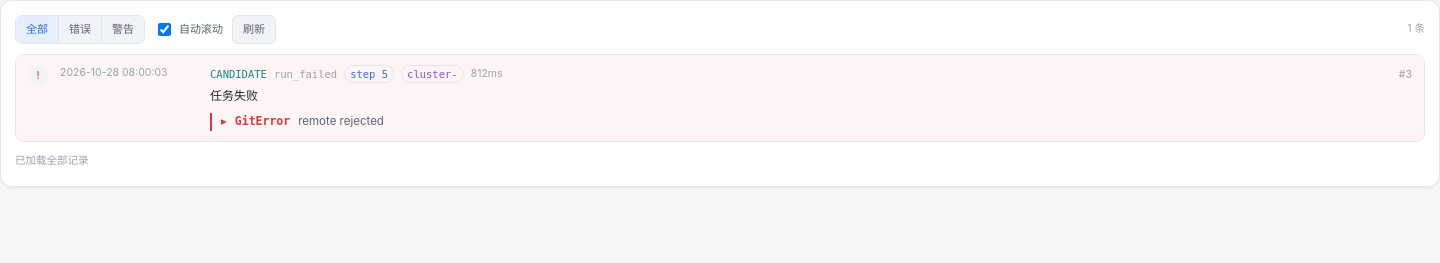
it: RunLogPanel › keeps redacted error details collapsed until requested and copies them
This screenshot has width=1440, height=263.
Click the heading "GitError remote rejected" at (309, 121), box [235,114,384,128]
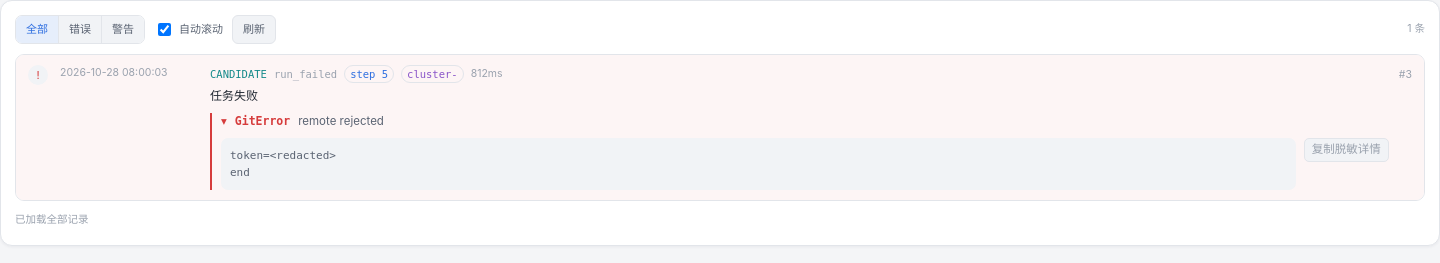
Click the button with class "copy-detail" at (1346, 150), box [1304,138,1389,162]
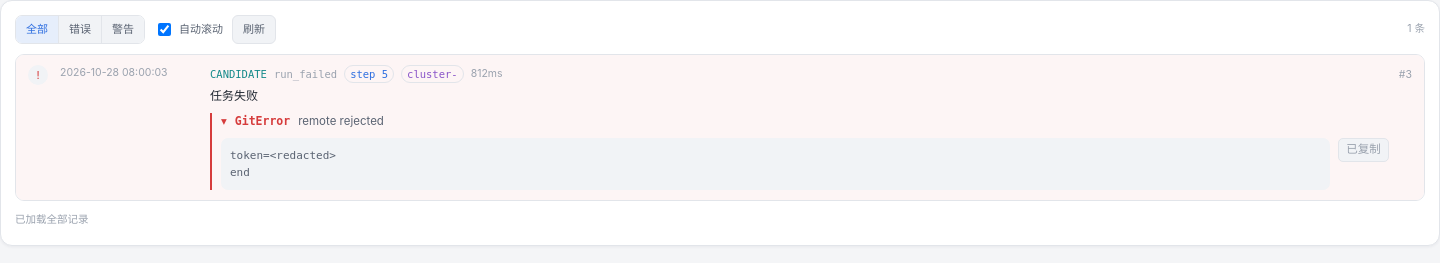
Now the text "已复制" is shown, box [1338,138,1389,162]
